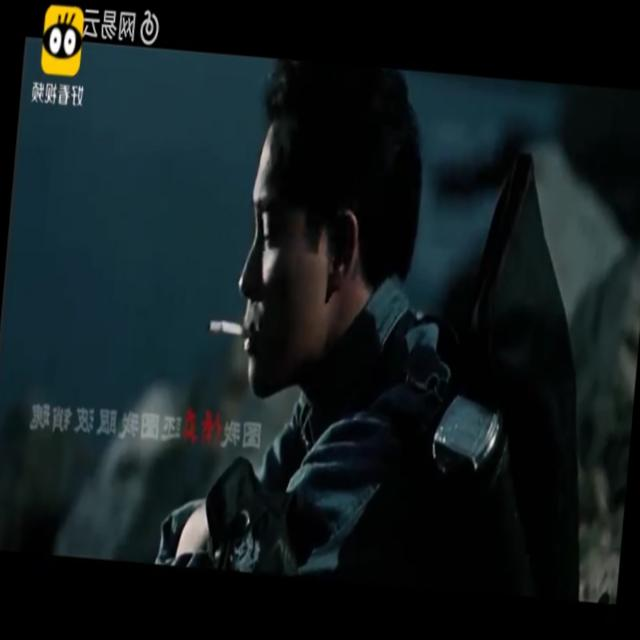cigarette: (195, 309, 253, 351)
